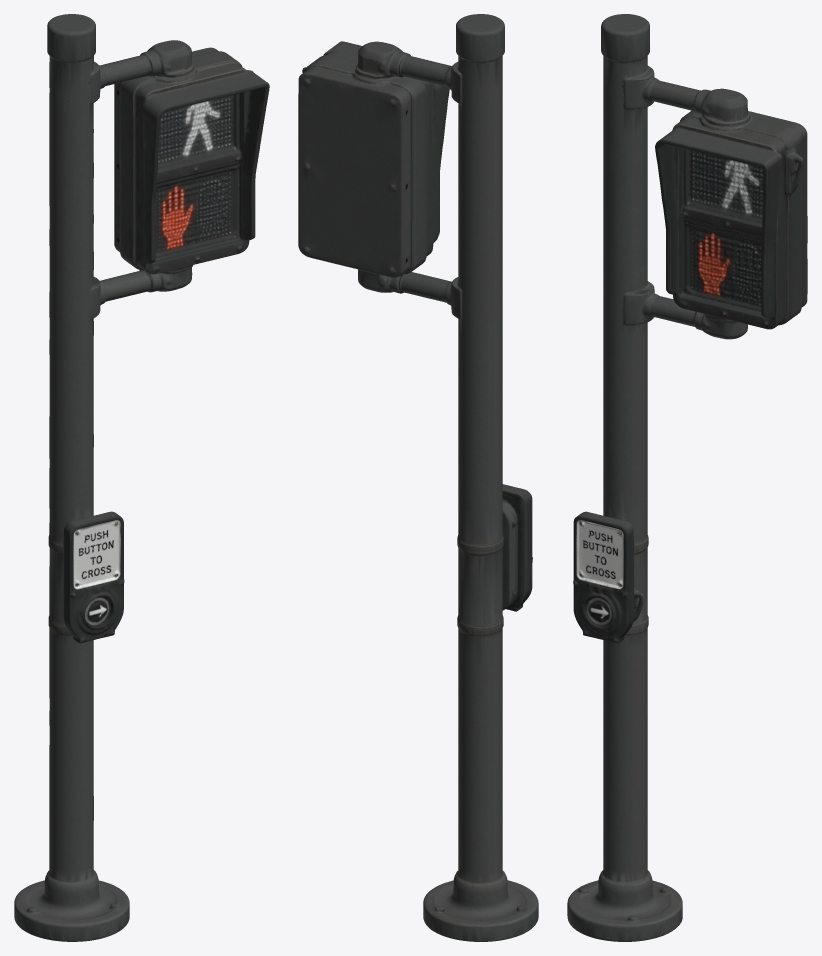
The model's file is psignal.glb.
3 renders of one model, left to right at view 1: azimuth 30°, elevation 25°; view 2: azimuth 150°, elevation 25°; view 3: azimuth 330°, elevation 25°, orthographic.
Parts seen in each view (by area): view 1: mesh_node; view 2: mesh_node; view 3: mesh_node.
Part boxes in pixels (x1=…): mesh_node: x1=14, y1=14, x2=269, y2=941; mesh_node: x1=298, y1=14, x2=538, y2=941; mesh_node: x1=567, y1=14, x2=807, y2=941.
Size of the model in its own units: 0.5118 by 1.9 by 0.2236.
1 material, 1 textured.
